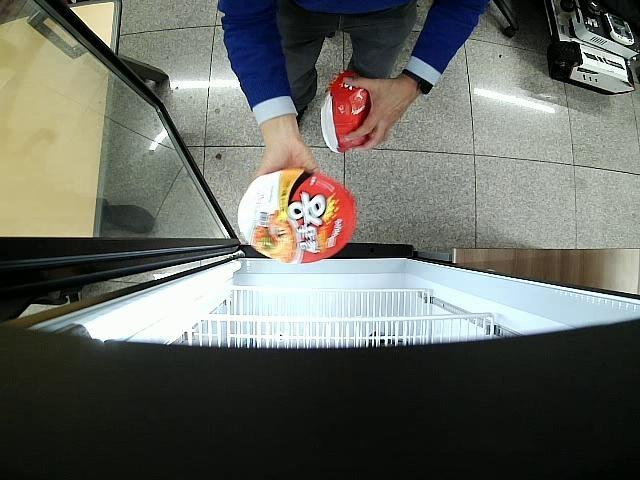10_wangTtukkeong: (238, 170, 356, 264), (322, 69, 371, 154)
